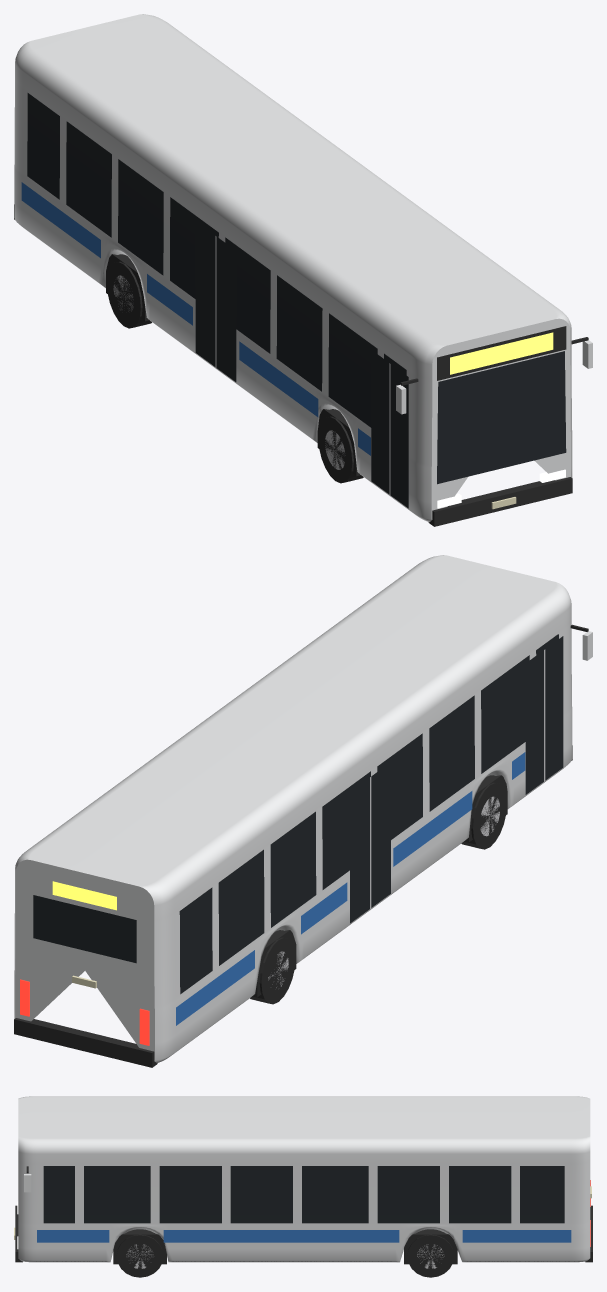
The model's file is onibus.gltf.
3 views of the same model, one above another, from view 1: azimuth 30°, elevation 25°; view 2: azimuth 150°, elevation 25°; view 3: azimuth 270°, elevation 25° (orthographic). The views are drawn at different scales.
Parts seen in each view (by area): view 1: carro; view 2: carro; view 3: carro.
Part boxes in pixels (<box>): carro: <box>14,14,592,526</box>; carro: <box>14,555,592,1067</box>; carro: <box>14,1096,592,1277</box>.
Size of the model in its own units: 3.24 by 3.15 by 12.35.
